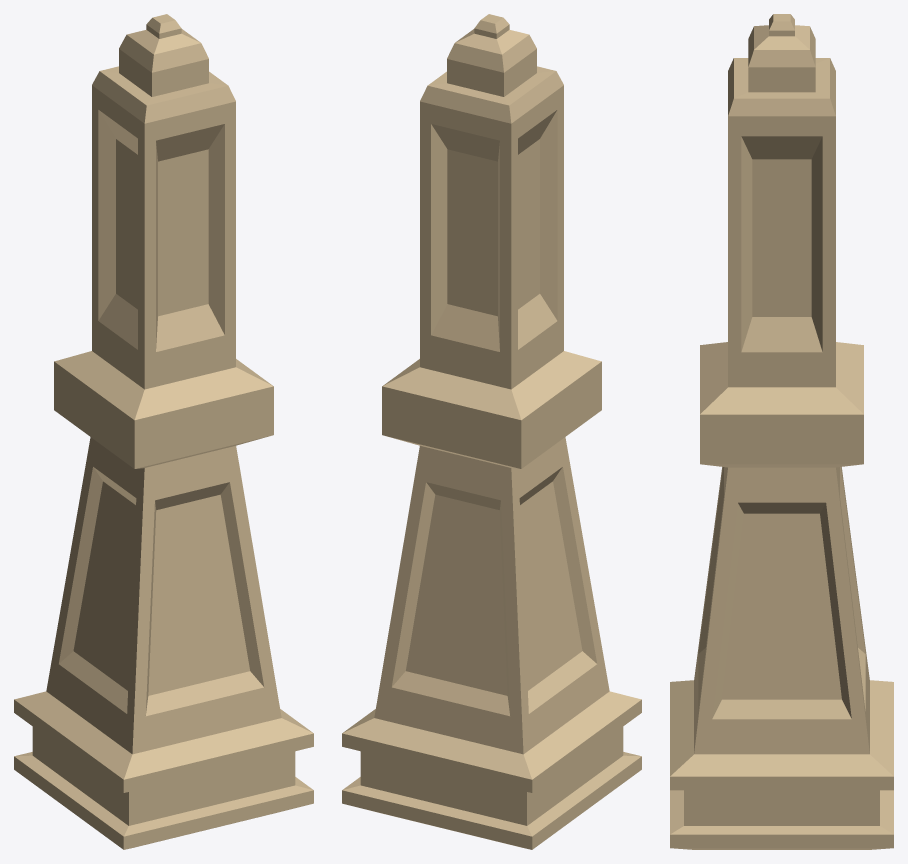
File: SM_TemplePillar01_Gaeta.fbx
The picture shows the model from 3 angles, left to right: view 1: azimuth 30°, elevation 25°; view 2: azimuth 150°, elevation 25°; view 3: azimuth 270°, elevation 25°; orthographic projection. The views are drawn at different scales.
Parts seen in each view (by area): view 1: Cube.044; view 2: Cube.044; view 3: Cube.044.
Part boxes in pixels (x1,y1,x2,y2): Cube.044: (14,14,313,849); Cube.044: (342,14,641,849); Cube.044: (670,14,893,849).
Bounding box in the file's own units: 0.5133 × 2.01 × 0.5133.
